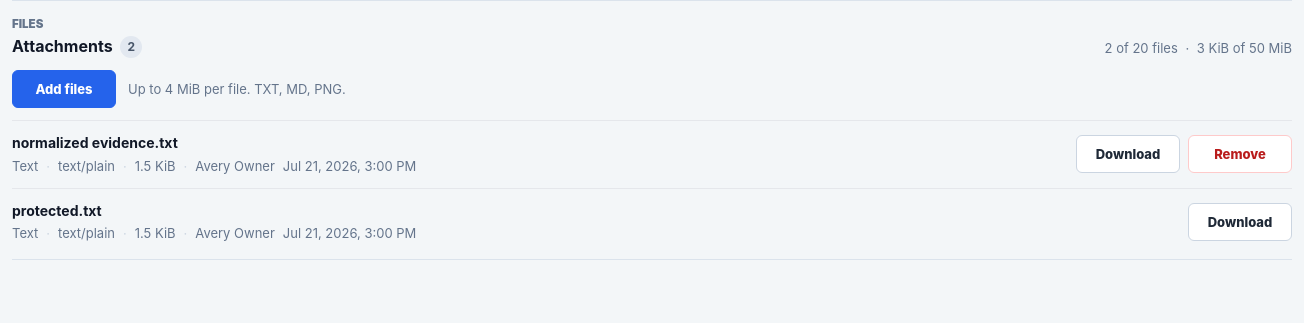
Test: WorkItemAttachmentsComponent › shows removal only from server capability and supports filename confirmation cancellation
Click the button with aria-label "Remove normalized evidence.txt": click(1240, 154) left=1188, top=135, right=1292, bottom=173
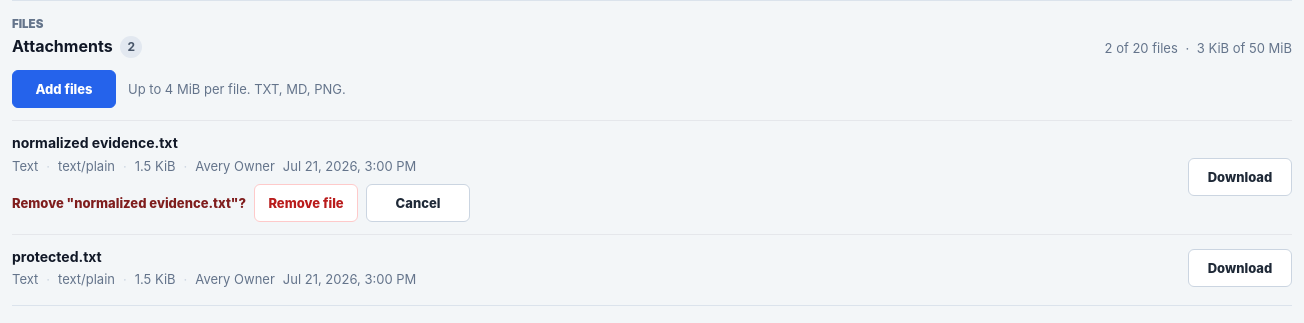
Check: the text "Remove \"normalized evidence.txt\"?" is shown, box left=12, top=194, right=246, bottom=210
Click the button "Cancel": click(418, 202) left=366, top=184, right=470, bottom=222
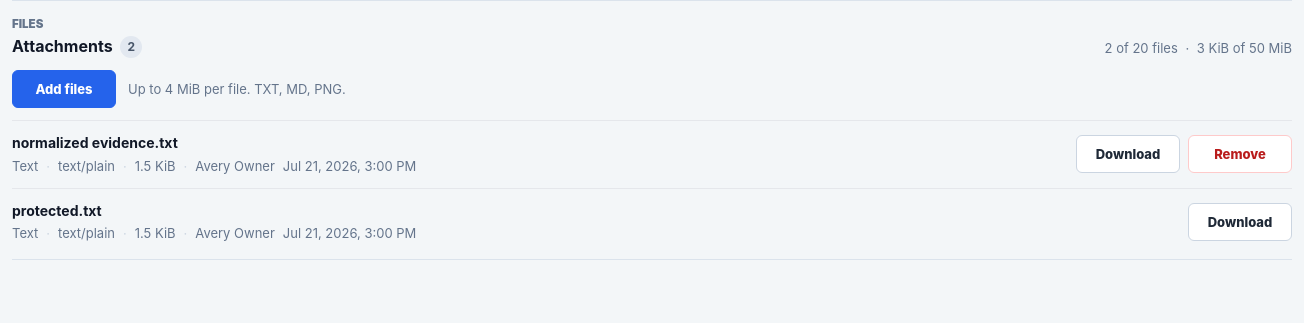
Check: the text "Remove \"normalized evidence.txt\"?" is gone
